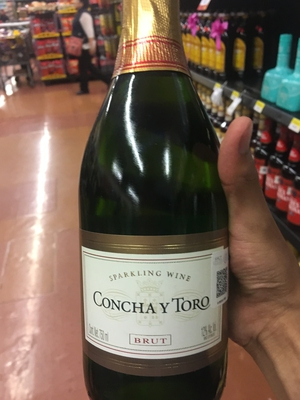brut: (71, 26, 234, 400)
